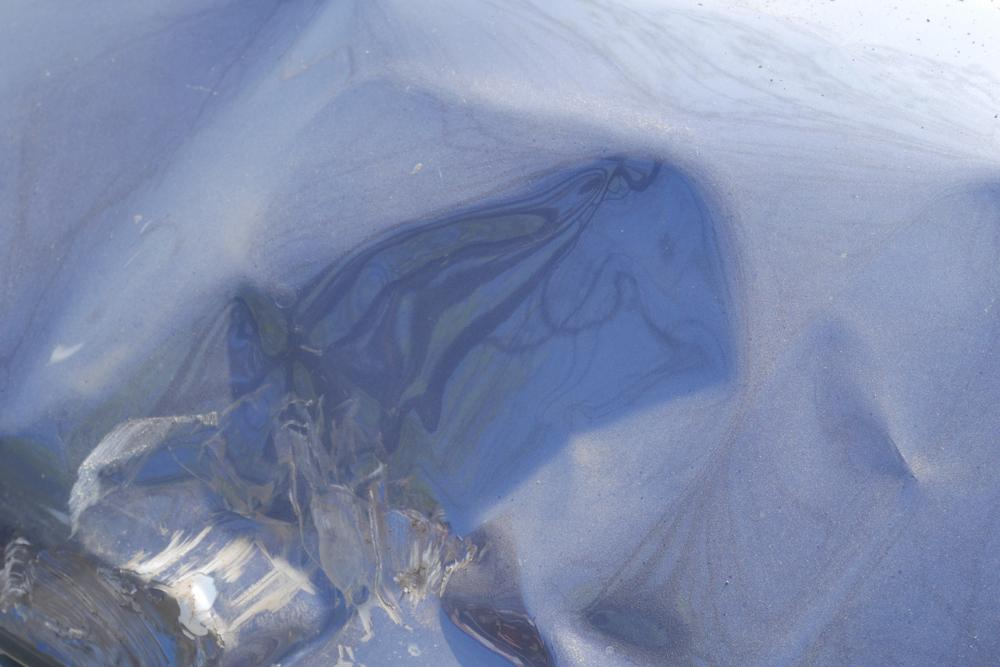dent: (0, 89, 1000, 667)
